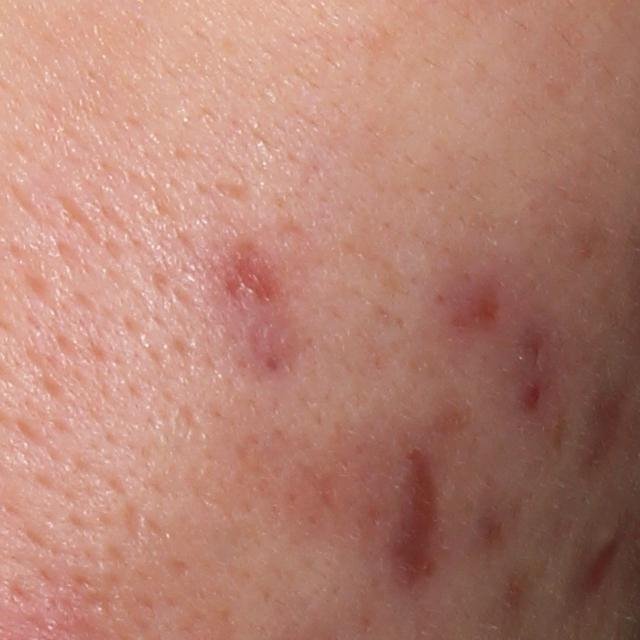atrophic_scar: (400, 458, 439, 591), (582, 518, 631, 605), (589, 395, 625, 476)
papule: (513, 376, 548, 413)
